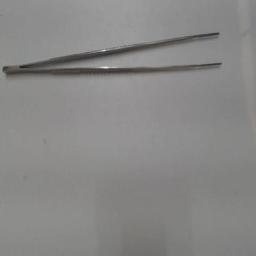DeBakey Dissector: (2, 24, 232, 90)
